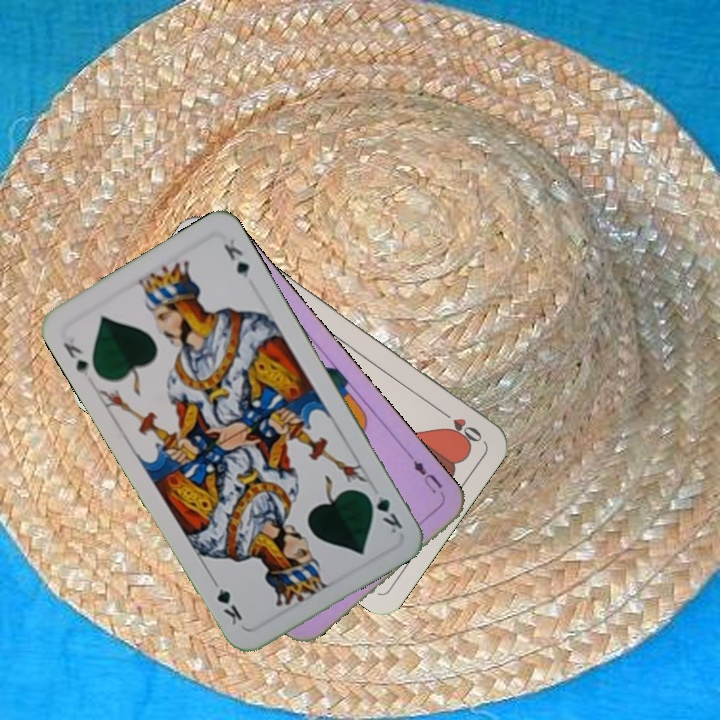EU: (405, 450, 445, 497)
GK: (361, 487, 406, 537), (59, 338, 92, 379)
HO: (434, 404, 485, 445)
